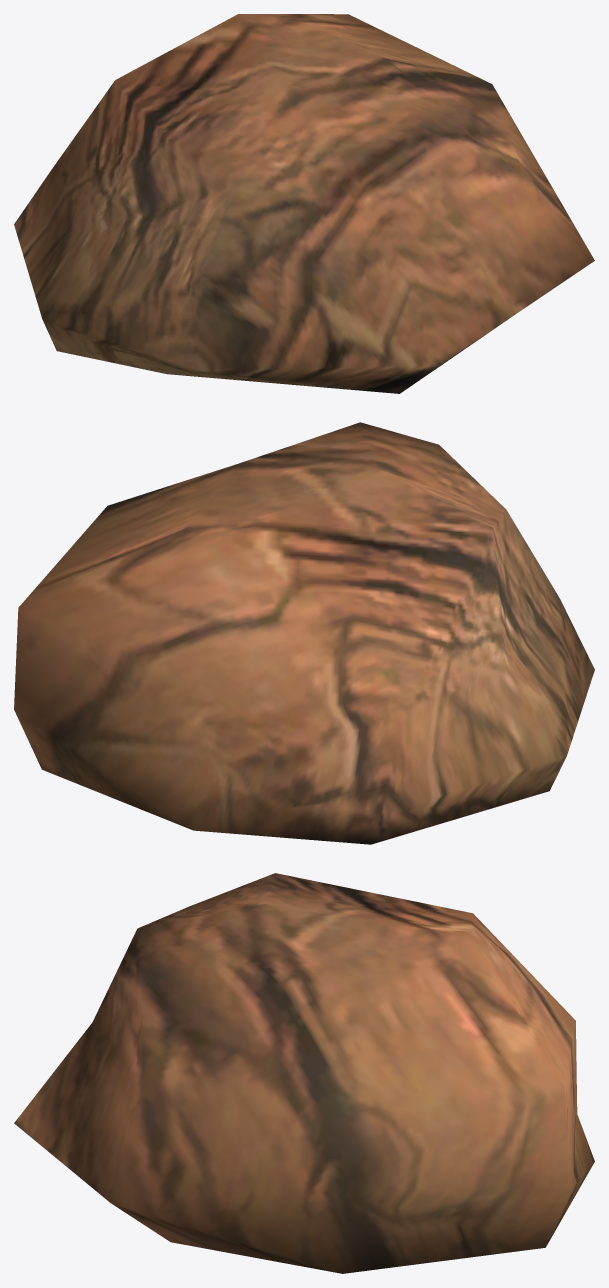
The model's file is M3_Boulder3.glb.
3 renders of one model, top to bottom at view 1: azimuth 30°, elevation 25°; view 2: azimuth 150°, elevation 25°; view 3: azimuth 270°, elevation 25°, orthographic. The views are drawn at different scales.
Parts seen in each view (by area): view 1: M3_BOULDER3; view 2: M3_BOULDER3; view 3: M3_BOULDER3.
Part boxes in pixels (<box>): M3_BOULDER3: <box>14,14,594,393</box>; M3_BOULDER3: <box>14,422,594,844</box>; M3_BOULDER3: <box>14,873,594,1273</box>.
Bounding box in the file's own units: 1.63 × 0.787 × 1.67.
Materials: 1 (1 with a texture image).
